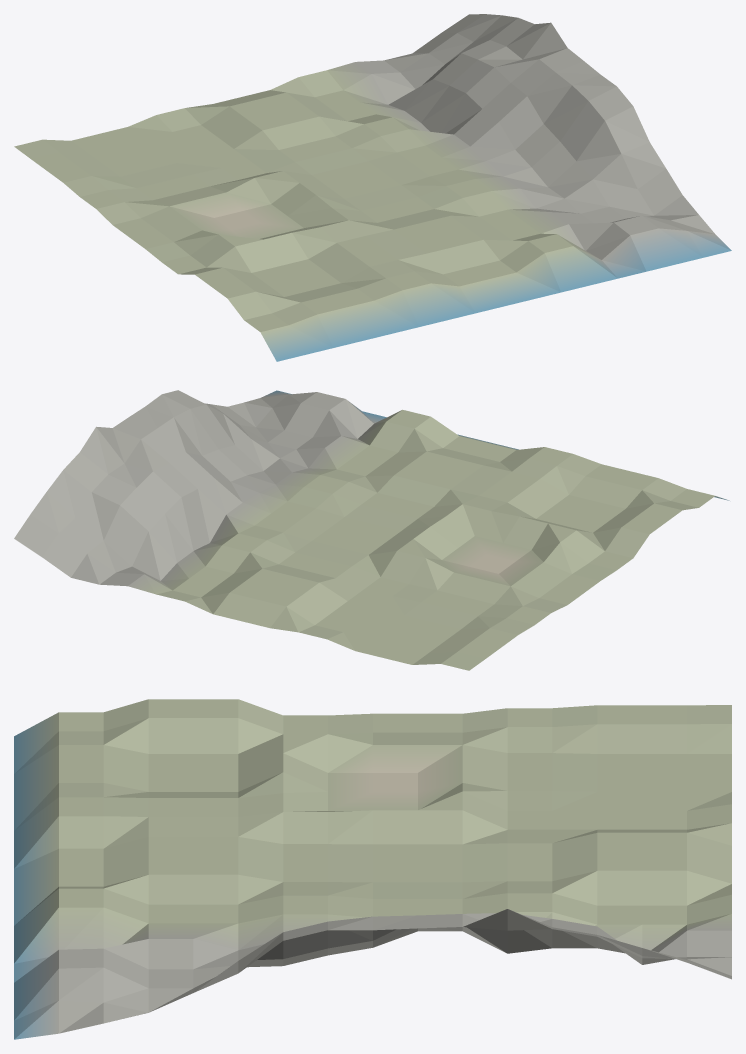
3 renders of one model, top to bottom at view 1: azimuth 30°, elevation 25°; view 2: azimuth 150°, elevation 25°; view 3: azimuth 270°, elevation 25°, orthographic. The views are drawn at different scales.
Size of the model in its own units: 32 by 6.44 by 32.
